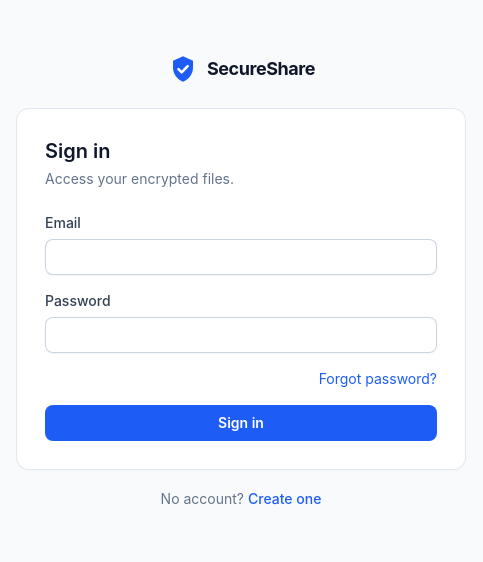
Test: Login › surfaces a lockout distinctly from a bad password
Type "locked@example.com" into the field labelled "Email".
click(241, 257); type("locked@example.com")  # box [45,239,437,275]
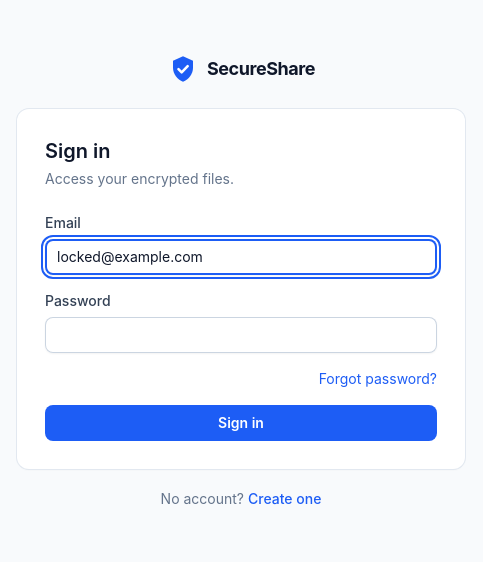
Type "Whatever123!" into the password field labelled "Password".
click(241, 335); type("Whatever123!")  # box [45,317,437,353]
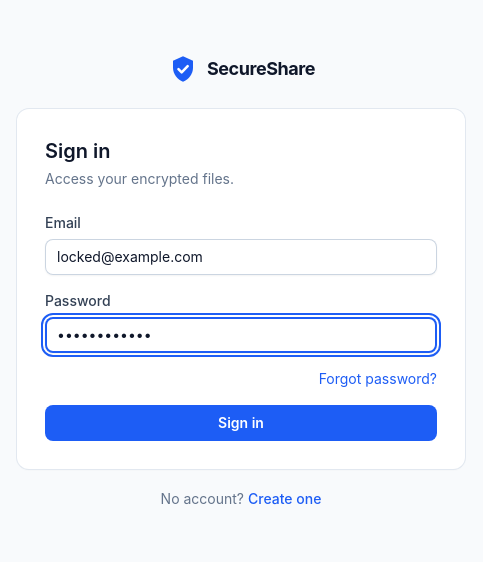
Click the button "Sign in".
click(241, 423)  # box [45,405,437,441]
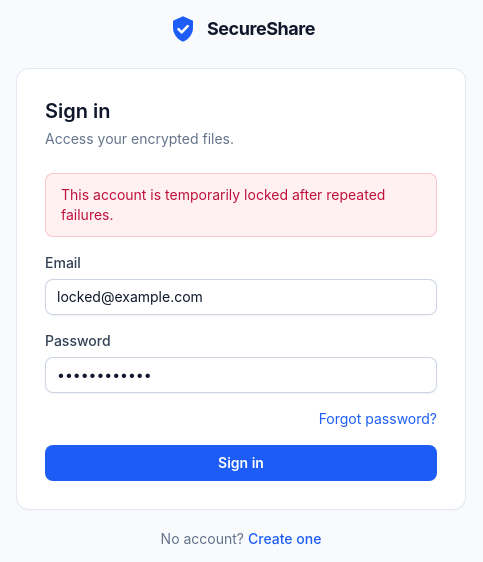
Result: the message shows "temporarily locked" at [61,186,385,223]
